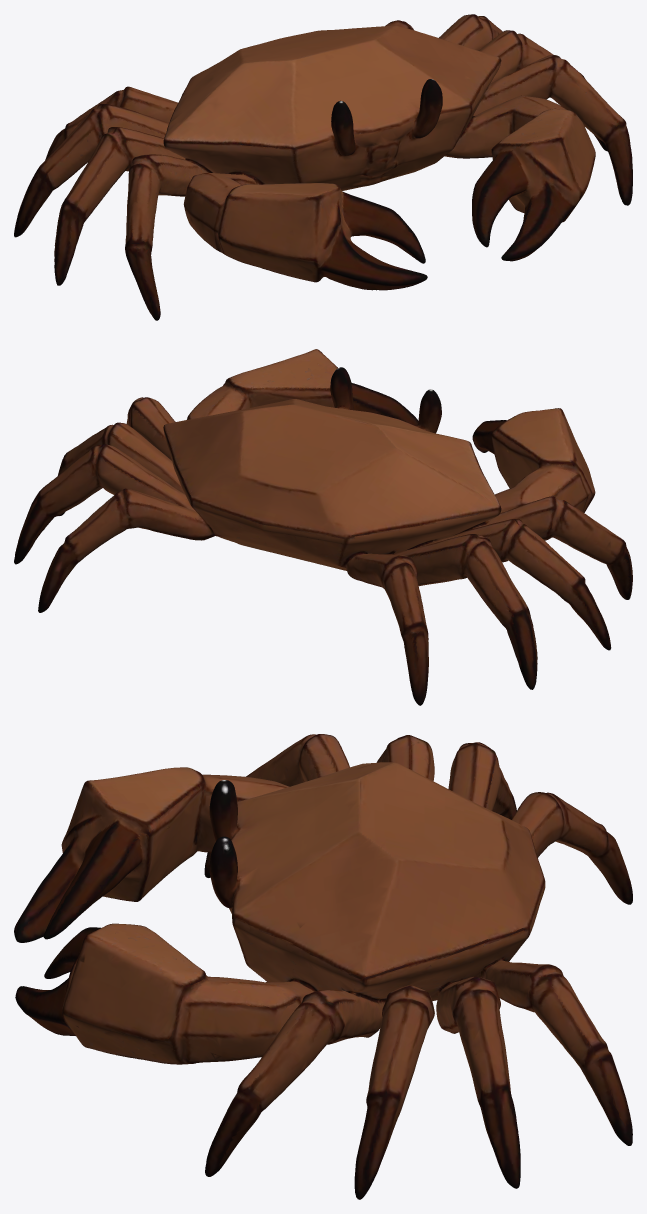
File: crab-optimized.glb
3 views of the same model, one above another, from view 1: azimuth 30°, elevation 25°; view 2: azimuth 150°, elevation 25°; view 3: azimuth 270°, elevation 25° (orthographic). The views are drawn at different scales.
Parts seen in each view (by area): view 1: world; view 2: world; view 3: world.
Boxes of the visible parts, left/top/right/bottom form: world: left=14, top=14, right=632, bottom=320; world: left=14, top=349, right=632, bottom=705; world: left=14, top=734, right=632, bottom=1199.
Size of the model in its own units: 1 by 0.2943 by 0.7436.
1 material, 1 textured.
